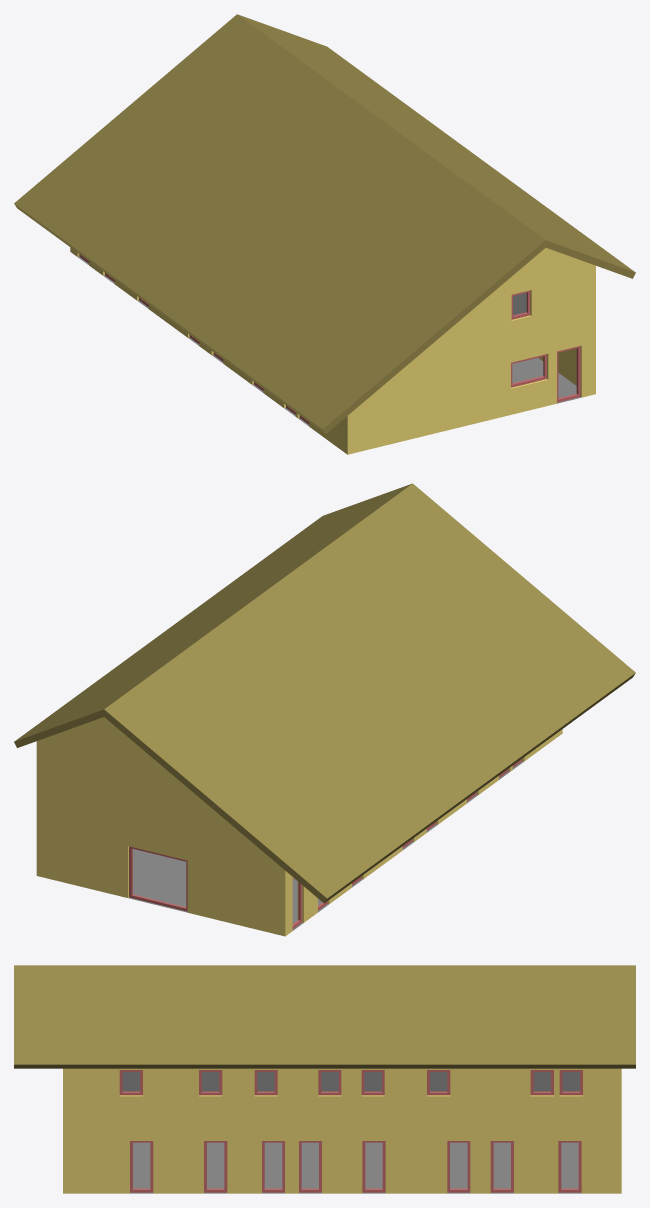
The model's file is result.glb.
The picture shows the model from 3 angles, top to bottom: view 1: azimuth 30°, elevation 25°; view 2: azimuth 150°, elevation 25°; view 3: azimuth 270°, elevation 25°; orthographic projection.
Parts seen in each view (by area): view 1: 3bd5fea1-5c5f-43c4-a875-c6daa9a3eae1__undefined (×2), 46d4d196-ad51-4135-8e7b-d77146c2e2b9__undefined, 946dc1af-8683-4c25-835a-c7bfbbb0f0f4__Plane_36; view 2: 3bd5fea1-5c5f-43c4-a875-c6daa9a3eae1__undefined (×2), 46d4d196-ad51-4135-8e7b-d77146c2e2b9__undefined, 946dc1af-8683-4c25-835a-c7bfbbb0f0f4__Plane_36, 372d4750-a664-4668-9e48-e54addaffc2b__Box_9; view 3: 3bd5fea1-5c5f-43c4-a875-c6daa9a3eae1__undefined, 46d4d196-ad51-4135-8e7b-d77146c2e2b9__undefined, 946dc1af-8683-4c25-835a-c7bfbbb0f0f4__Plane_36, 6c7da87b-c3a6-4445-959f-7fcf0fc60550__Box_108, 49b23ec1-29ad-4270-8f63-de30b1e901ff__Box_72, 1e13ce50-c968-42a1-a6e8-178cdd0c53f6__Box_81, 15afedcd-07c4-43eb-b022-c477424e60ad__Box_60, 5c2ec240-0c0d-45f7-ac87-4075faaa9052__Box_63, a1b8481e-c08e-489e-8a48-2b5814792b44__Box_75, 11c0788a-49e3-4376-9dfa-0af7b315470d__Box_78, 49ca01ba-e56f-4f51-a5c9-e941dc015b8a__Box_66, 5dfdfc6a-a441-441d-991f-3bf90faaa590__Box_69.
Boxes of the visible parts, box(x1,y1,x2,y2) form: 3bd5fea1-5c5f-43c4-a875-c6daa9a3eae1__undefined (×2): box(14, 14, 635, 433); 46d4d196-ad51-4135-8e7b-d77146c2e2b9__undefined: box(70, 247, 595, 454); 946dc1af-8683-4c25-835a-c7bfbbb0f0f4__Plane_36: box(78, 256, 581, 426); 3bd5fea1-5c5f-43c4-a875-c6daa9a3eae1__undefined (×2): box(14, 483, 635, 903); 46d4d196-ad51-4135-8e7b-d77146c2e2b9__undefined: box(36, 717, 562, 936); 946dc1af-8683-4c25-835a-c7bfbbb0f0f4__Plane_36: box(128, 761, 523, 930); 372d4750-a664-4668-9e48-e54addaffc2b__Box_9: box(129, 846, 187, 911); 3bd5fea1-5c5f-43c4-a875-c6daa9a3eae1__undefined: box(14, 965, 635, 1068); 46d4d196-ad51-4135-8e7b-d77146c2e2b9__undefined: box(63, 1068, 621, 1193); 946dc1af-8683-4c25-835a-c7bfbbb0f0f4__Plane_36: box(130, 1142, 581, 1193); 6c7da87b-c3a6-4445-959f-7fcf0fc60550__Box_108: box(122, 1072, 579, 1091); 49b23ec1-29ad-4270-8f63-de30b1e901ff__Box_72: box(362, 1141, 385, 1192); 1e13ce50-c968-42a1-a6e8-178cdd0c53f6__Box_81: box(558, 1141, 581, 1192); 15afedcd-07c4-43eb-b022-c477424e60ad__Box_60: box(130, 1141, 153, 1192); 5c2ec240-0c0d-45f7-ac87-4075faaa9052__Box_63: box(204, 1141, 227, 1192); a1b8481e-c08e-489e-8a48-2b5814792b44__Box_75: box(447, 1141, 470, 1192); 11c0788a-49e3-4376-9dfa-0af7b315470d__Box_78: box(490, 1141, 513, 1192); 49ca01ba-e56f-4f51-a5c9-e941dc015b8a__Box_66: box(262, 1141, 284, 1192); 5dfdfc6a-a441-441d-991f-3bf90faaa590__Box_69: box(299, 1141, 321, 1192).
Bounding box in the file's own units: 1258 × 729 × 2147.
